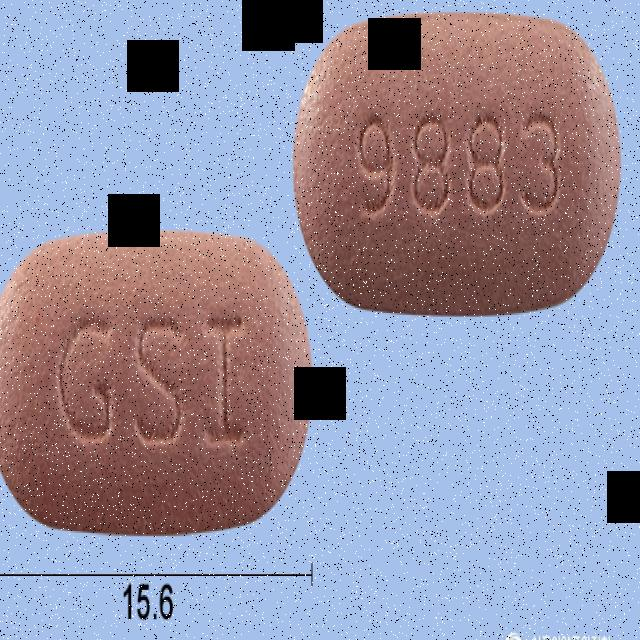Biktarvy: (0, 226, 316, 540)
